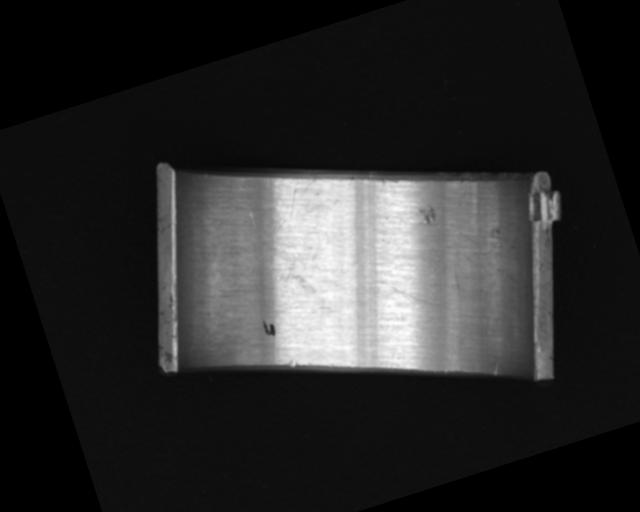blot: (268, 245, 325, 307), (260, 316, 278, 341)
bruise: (417, 201, 439, 227), (288, 358, 298, 369)
nick: (376, 263, 439, 321), (490, 361, 504, 376)
